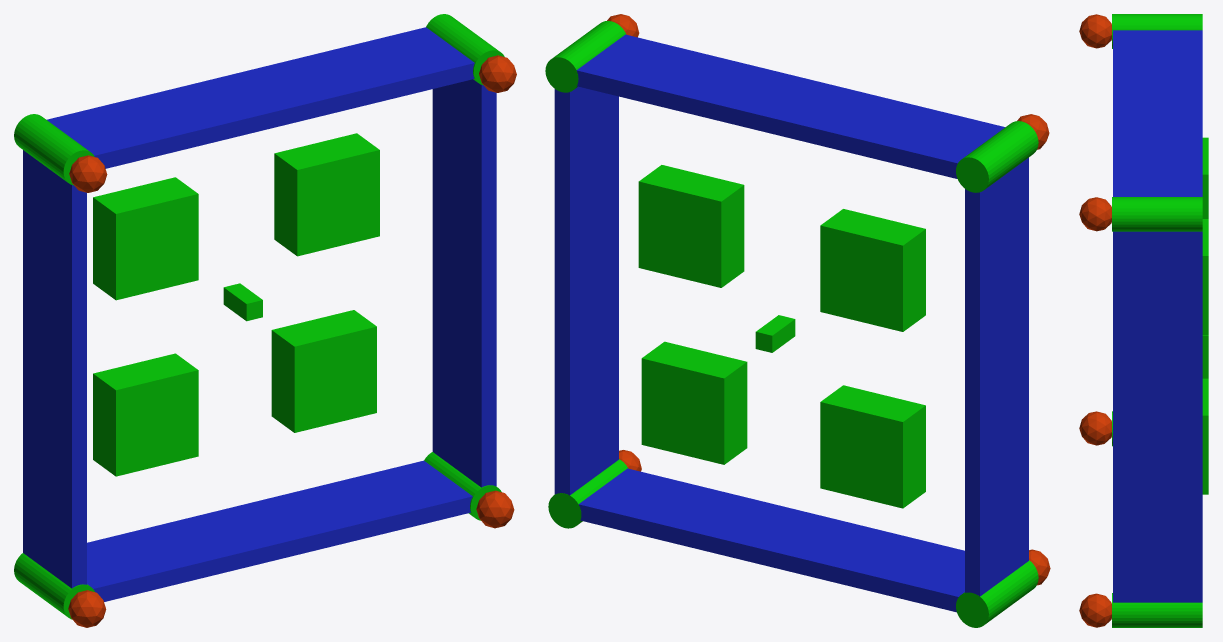
Rendered from four_way_hallway.obj.
The picture shows the model from 3 angles, left to right: view 1: azimuth 30°, elevation 25°; view 2: azimuth 150°, elevation 25°; view 3: azimuth 270°, elevation 25°; orthographic projection. The views are drawn at different scales.
Parts seen in each view (by area): view 1: Cube.003, Cube.004, Cube.001, Cube.002, Cube.006, Cube.007, Cube.011, Cube.008, Cylinder.002, Cylinder.001, Cylinder.003, Cylinder (+5 smaller); view 2: Cube.003, Cube.004, Cube.001, Cube.002, Cube.006, Cube.008, Cube.011, Cube.007, Cylinder.002, Cylinder.001, Cylinder.003, Cylinder (+1 smaller); view 3: Cube.004, Cube.001, Cylinder.003, Cylinder, Cylinder.002, Icosphere, Icosphere.002, Icosphere.001, Icosphere.003, Cube.008, Cube.006, Cube.011 (+1 smaller).
Boxes of the visible parts, x1=… form: Cube.003: x1=23, y1=150, x2=86, y2=588; Cube.004: x1=432, y1=79, x2=496, y2=487; Cube.001: x1=46, y1=27, x2=474, y2=168; Cube.002: x1=87, y1=460, x2=472, y2=601; Cube.006: x1=274, y1=133, x2=379, y2=256; Cube.007: x1=93, y1=353, x2=198, y2=476; Cube.011: x1=93, y1=177, x2=198, y2=300; Cube.008: x1=271, y1=310, x2=376, y2=432; Cylinder.002: x1=14, y1=114, x2=94, y2=185; Cylinder.001: x1=14, y1=553, x2=94, y2=619; Cylinder.003: x1=426, y1=14, x2=504, y2=85; Cylinder: x1=424, y1=452, x2=501, y2=520; Cube.003: x1=965, y1=157, x2=1028, y2=596; Cube.004: x1=554, y1=86, x2=618, y2=495; Cube.001: x1=576, y1=34, x2=1005, y2=178; Cube.002: x1=578, y1=468, x2=964, y2=612; Cube.006: x1=638, y1=165, x2=744, y2=287; Cube.008: x1=641, y1=341, x2=747, y2=464; Cube.011: x1=820, y1=209, x2=925, y2=331; Cube.007: x1=820, y1=385, x2=925, y2=508; Cylinder.002: x1=956, y1=121, x2=1038, y2=192; Cylinder.001: x1=956, y1=560, x2=1038, y2=627; Cylinder.003: x1=545, y1=21, x2=625, y2=92; Cylinder: x1=548, y1=459, x2=628, y2=528; Cube.004: x1=1113, y1=231, x2=1202, y2=602; Cube.001: x1=1113, y1=30, x2=1202, y2=196; Cylinder.003: x1=1112, y1=197, x2=1202, y2=231; Cylinder: x1=1112, y1=593, x2=1202, y2=627; Cylinder.002: x1=1112, y1=14, x2=1202, y2=48; Icosphere: x1=1079, y1=14, x2=1111, y2=48; Icosphere.002: x1=1079, y1=593, x2=1111, y2=627; Icosphere.001: x1=1079, y1=197, x2=1111, y2=231; Icosphere.003: x1=1079, y1=411, x2=1111, y2=445; Cube.008: x1=1202, y1=378, x2=1208, y2=494; Cube.006: x1=1202, y1=219, x2=1208, y2=334; Cube.011: x1=1202, y1=137, x2=1208, y2=218.
Size of the model in its own units: 26.85 by 27.16 by 7.42.
